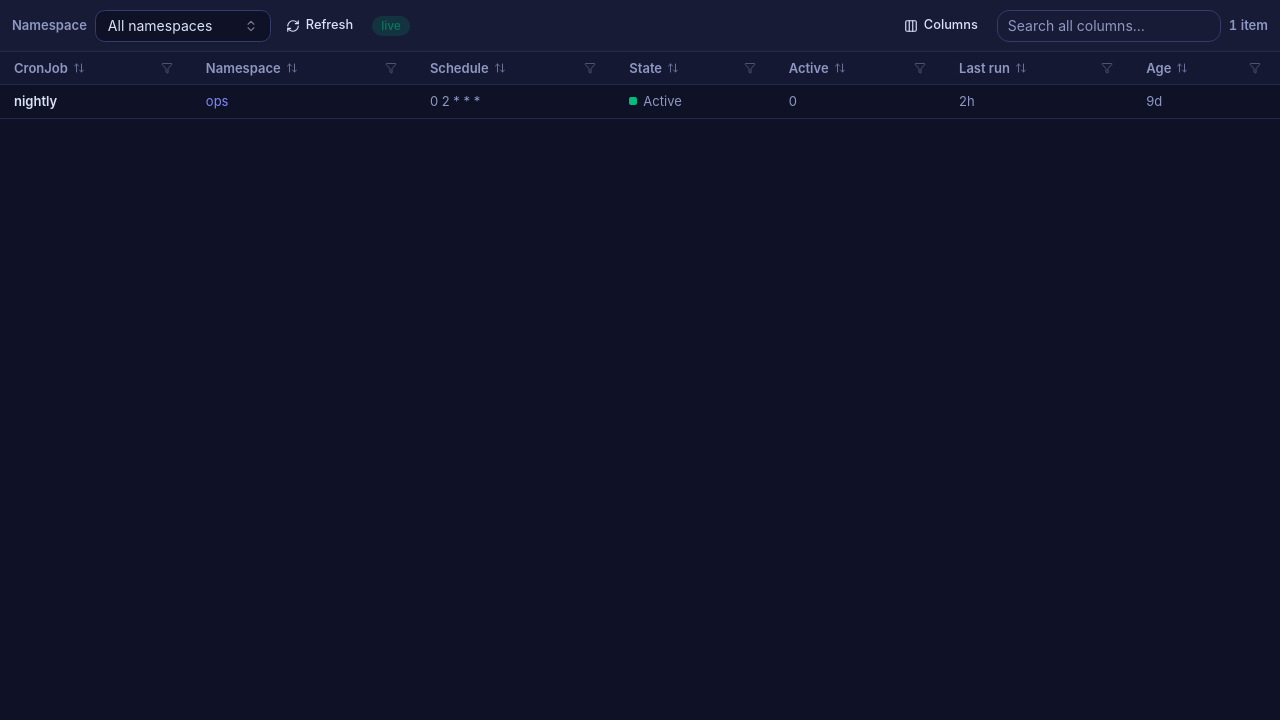
Test: ResourceBrowser › relabels the CronJob detail action when a watch update flips suspend
The image size is (1280, 720).
Click the text "nightly" at point(36, 101), box [14,93,57,109]
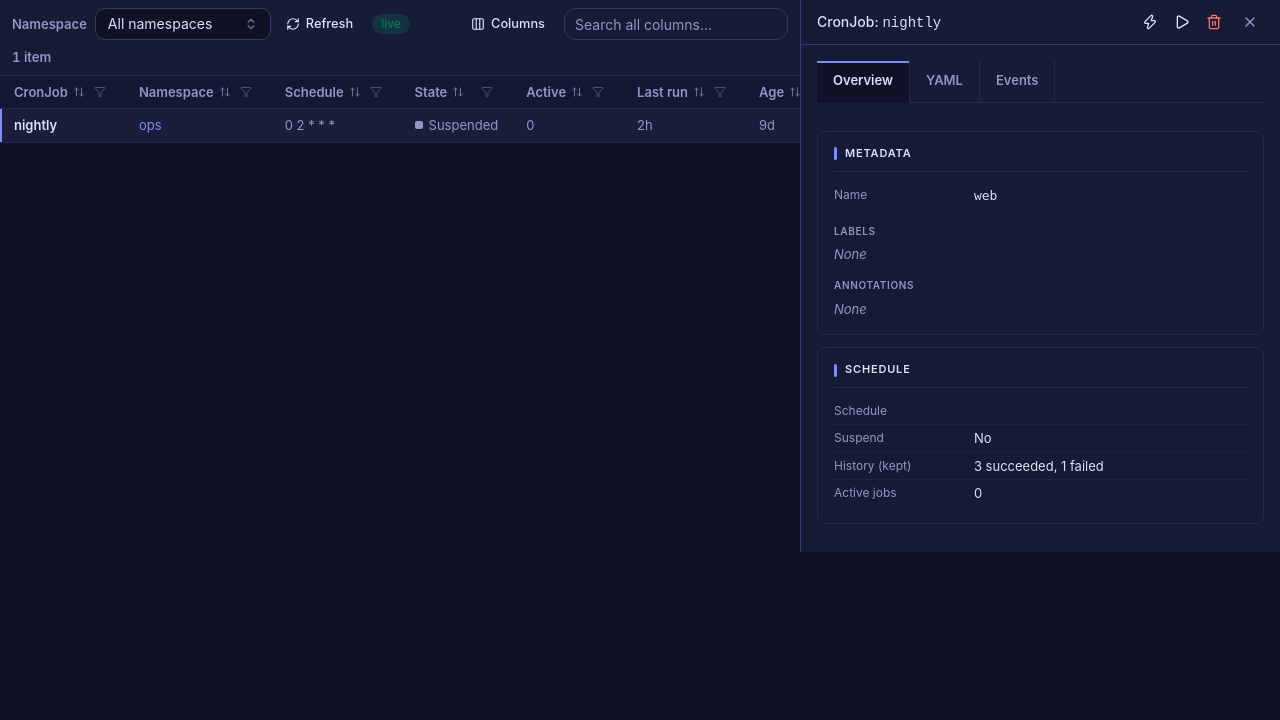
Check: the button named "Resume" is shown, box [1168,8,1196,36]
